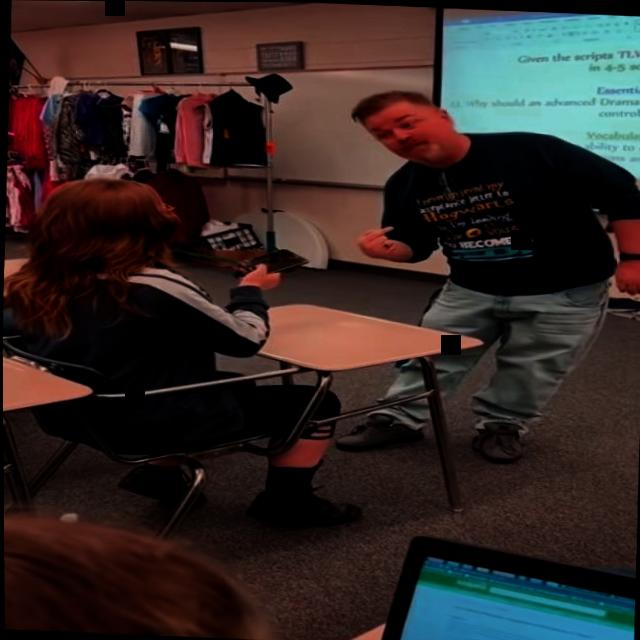NO-Mask: (364, 94, 470, 171)
